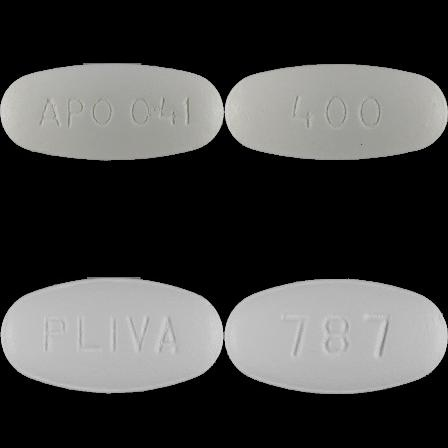61919-251: (0, 0, 224, 224)
